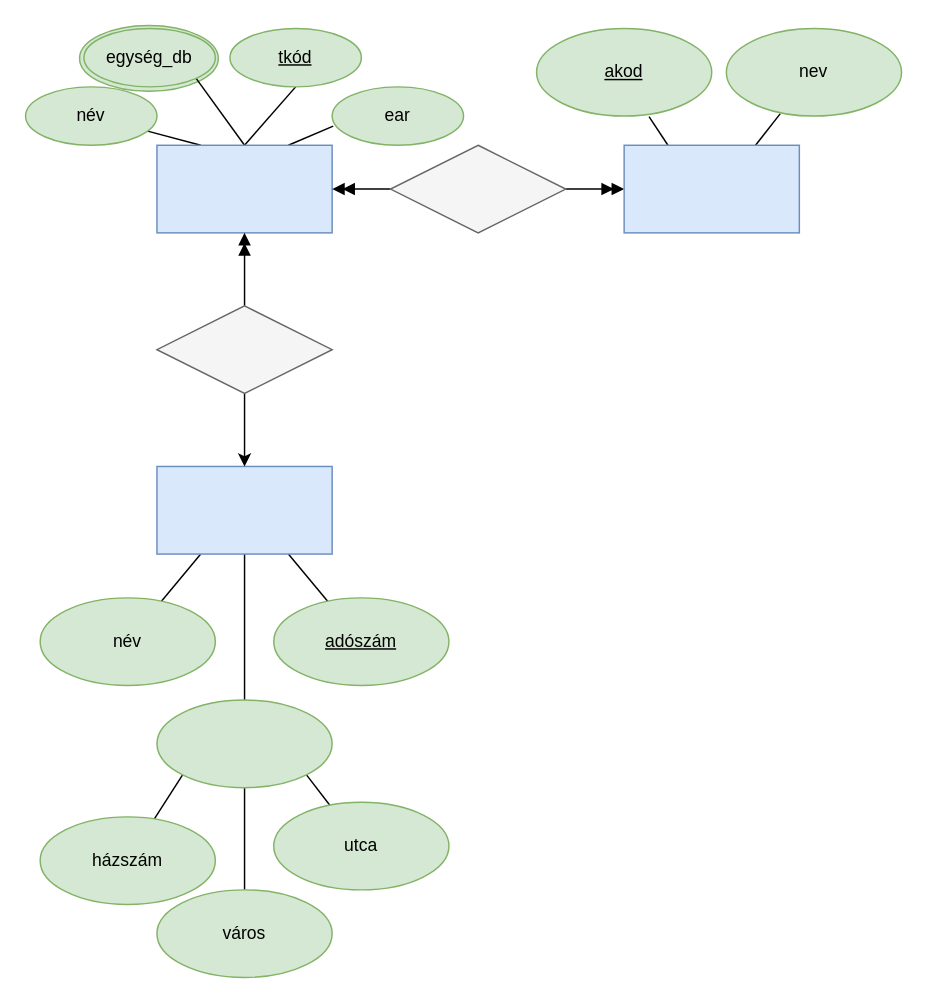
This 927x1003 diagram has some shape labels left out. The centre of each missing label's shape, as x and y in pixels:
alkatrész: the point at 711,188
gyártó: the point at 243,509
telephely: the point at 243,743
termék: the point at 243,188
